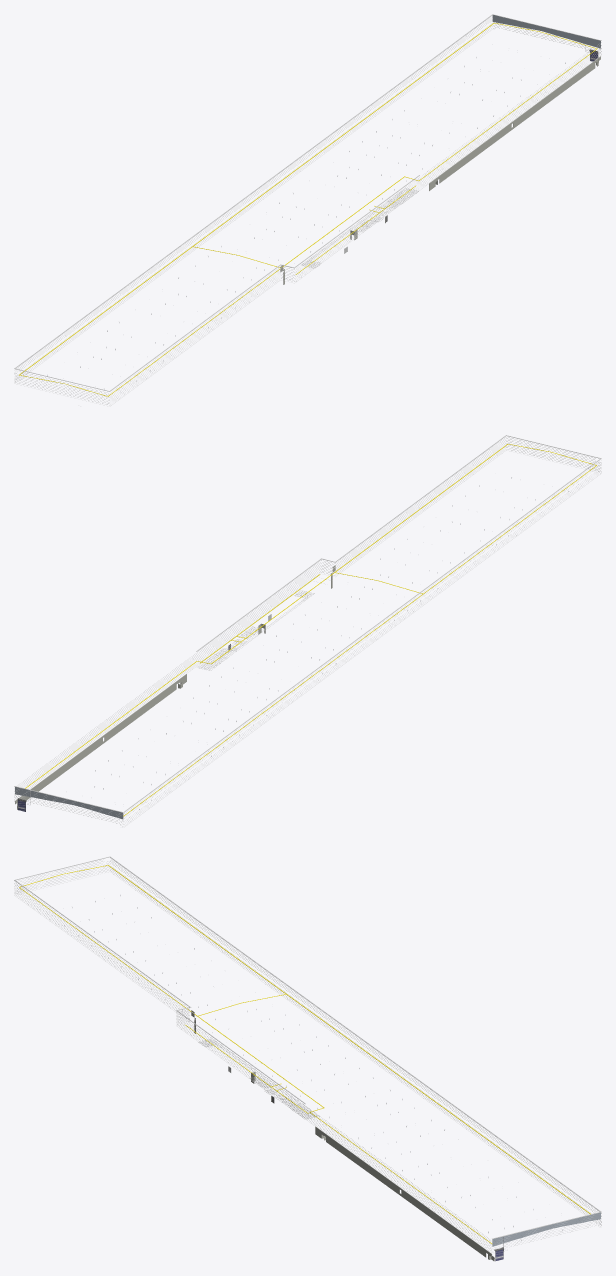
File: pt104-l1t1-1542-104-con-ed-arq-mo-0001-r02.glb
The picture shows the model from 3 angles, top to bottom: view 1: azimuth 30°, elevation 25°; view 2: azimuth 210°, elevation 25°; view 3: azimuth 270°, elevation 25°; orthographic projection.
Visible parts, largest first — view 1: 38H43KCgn4ARYzng9i2uL8, 0cTcPYAqHBcxdsJ4fBYn9s, 0NY90$c$TE3xDqxtIvwGBr, 0cTcPYAqHBcxdsJ4fBYtNz; view 2: 38H43KCgn4ARYzng9i2uL8, 0cTcPYAqHBcxdsJ4fBYn9s, 0NY90$c$TE3xDqxtIvwGBr, 0cTcPYAqHBcxdsJ4fBYtNz; view 3: 38H43KCgn4ARYzng9i2uL8, 0cTcPYAqHBcxdsJ4fBYn9s, 0NY90$c$TE3xDqxtIvwGBr, 0cTcPYAqHBcxdsJ4fBYtNz.
Part boxes in pixels (x1,y1,x2,y2): 38H43KCgn4ARYzng9i2uL8: (437, 58, 598, 184); 0cTcPYAqHBcxdsJ4fBYn9s: (14, 14, 492, 368); 0NY90$c$TE3xDqxtIvwGBr: (19, 23, 494, 375); 0cTcPYAqHBcxdsJ4fBYtNz: (492, 15, 600, 48); 38H43KCgn4ARYzng9i2uL8: (17, 680, 178, 804); 0cTcPYAqHBcxdsJ4fBYn9s: (124, 458, 601, 812); 0NY90$c$TE3xDqxtIvwGBr: (123, 465, 596, 816); 0cTcPYAqHBcxdsJ4fBYtNz: (15, 787, 123, 819); 38H43KCgn4ARYzng9i2uL8: (324, 1133, 489, 1259); 0cTcPYAqHBcxdsJ4fBYn9s: (110, 856, 600, 1211); 0NY90$c$TE3xDqxtIvwGBr: (108, 865, 590, 1214); 0cTcPYAqHBcxdsJ4fBYtNz: (492, 1212, 600, 1246).
Size of the model in its own units: 409 by 11.71 by 266.
